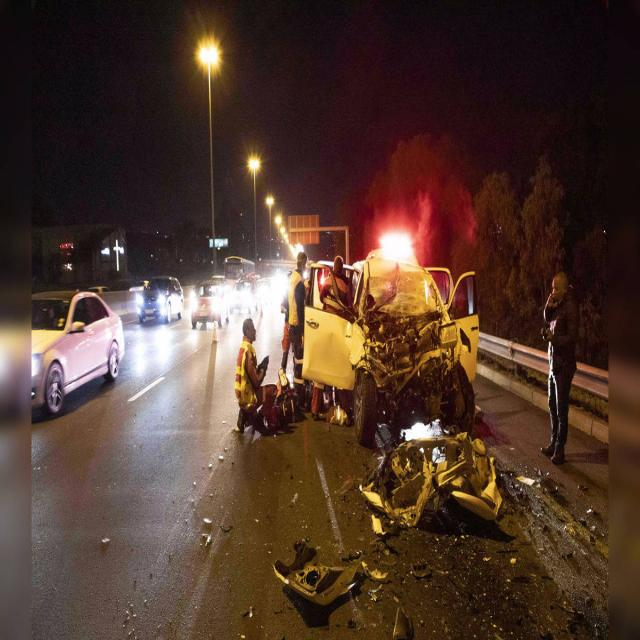accident: (300, 255, 479, 444)
car: (31, 293, 125, 415)
